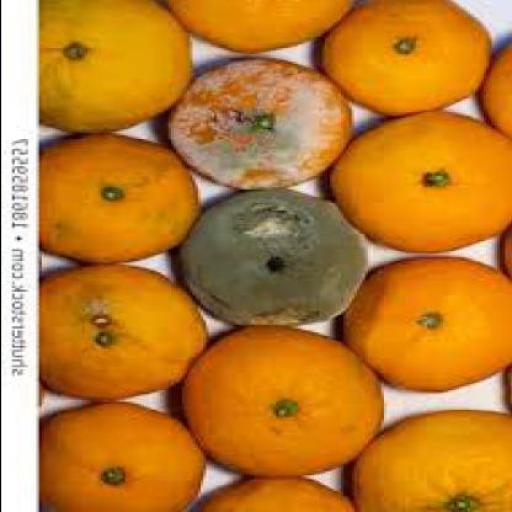biodegradable: (184, 328, 386, 478), (177, 190, 369, 328), (334, 111, 512, 259), (167, 60, 356, 194), (40, 265, 210, 406), (342, 255, 511, 395), (41, 2, 197, 137), (40, 138, 202, 266), (321, 2, 493, 120), (38, 401, 208, 511), (354, 413, 510, 512), (170, 2, 356, 56), (200, 472, 358, 510), (479, 46, 511, 142)
